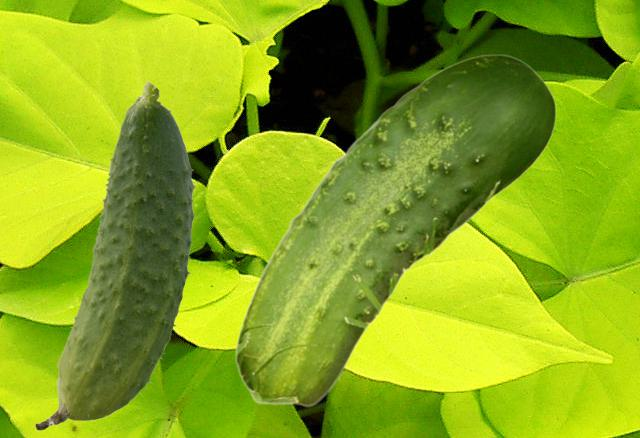cucumber: (234, 54, 555, 406), (35, 81, 195, 429)
